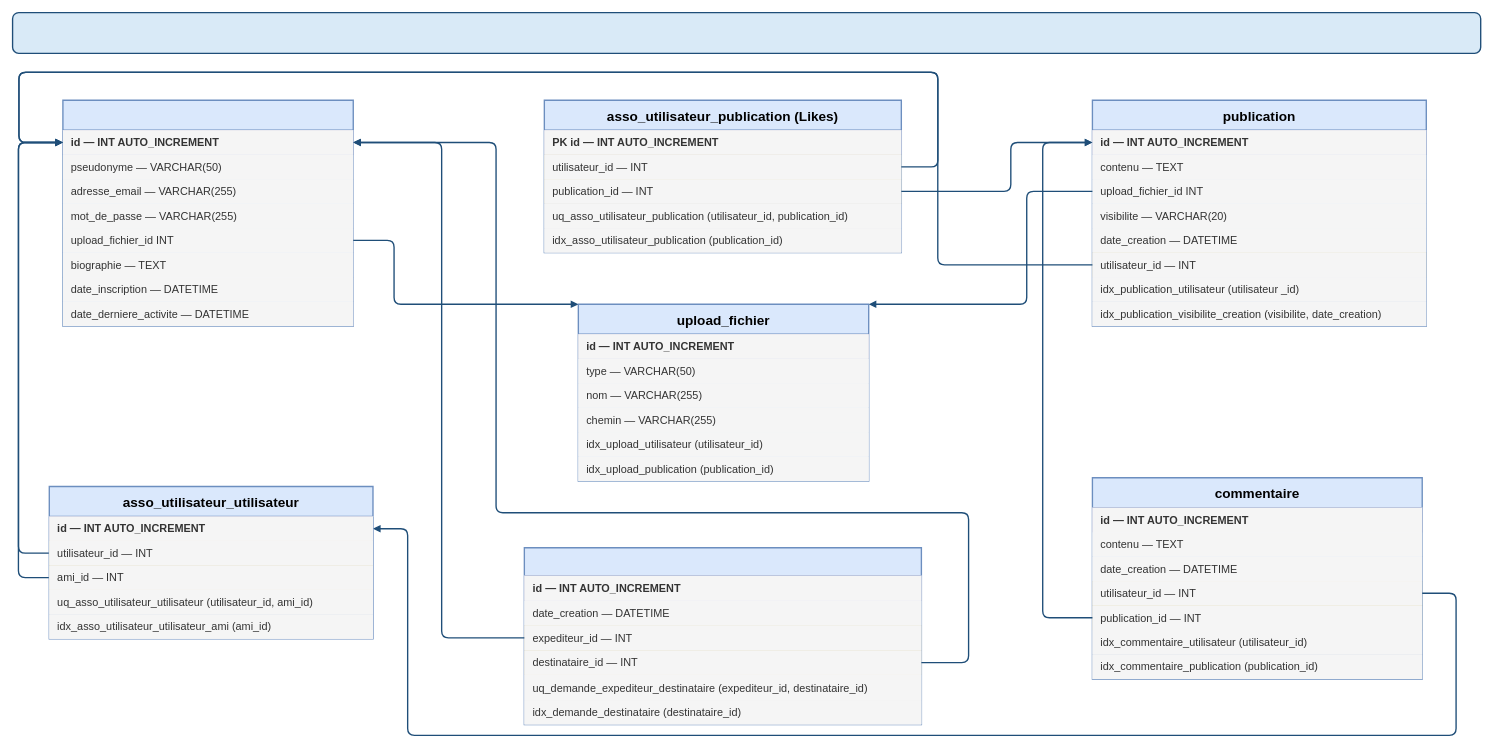
Some shapes in this 1493 by 753 pixel diagram are drawn without their labels. Each missing label, with the box of its shape:
demande_amitie: (523, 547, 922, 725)
MPD - Voisin: (12, 12, 1481, 54)
utilisateur: (62, 99, 354, 326)
